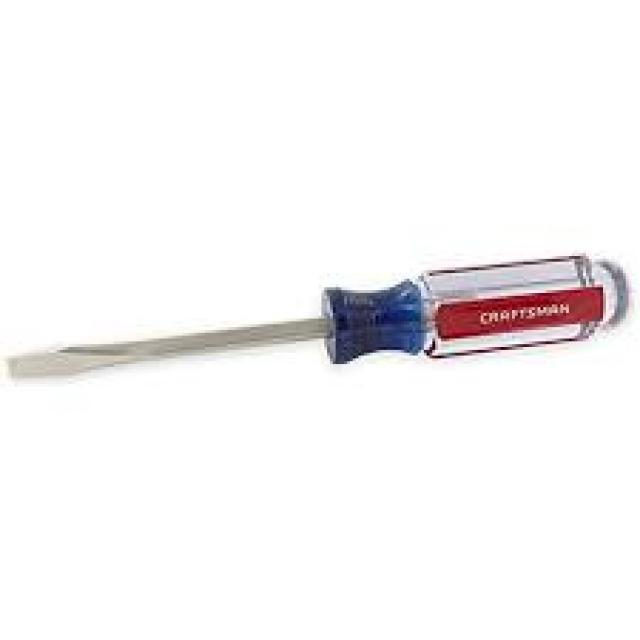screwdriver: (6, 252, 632, 386)
